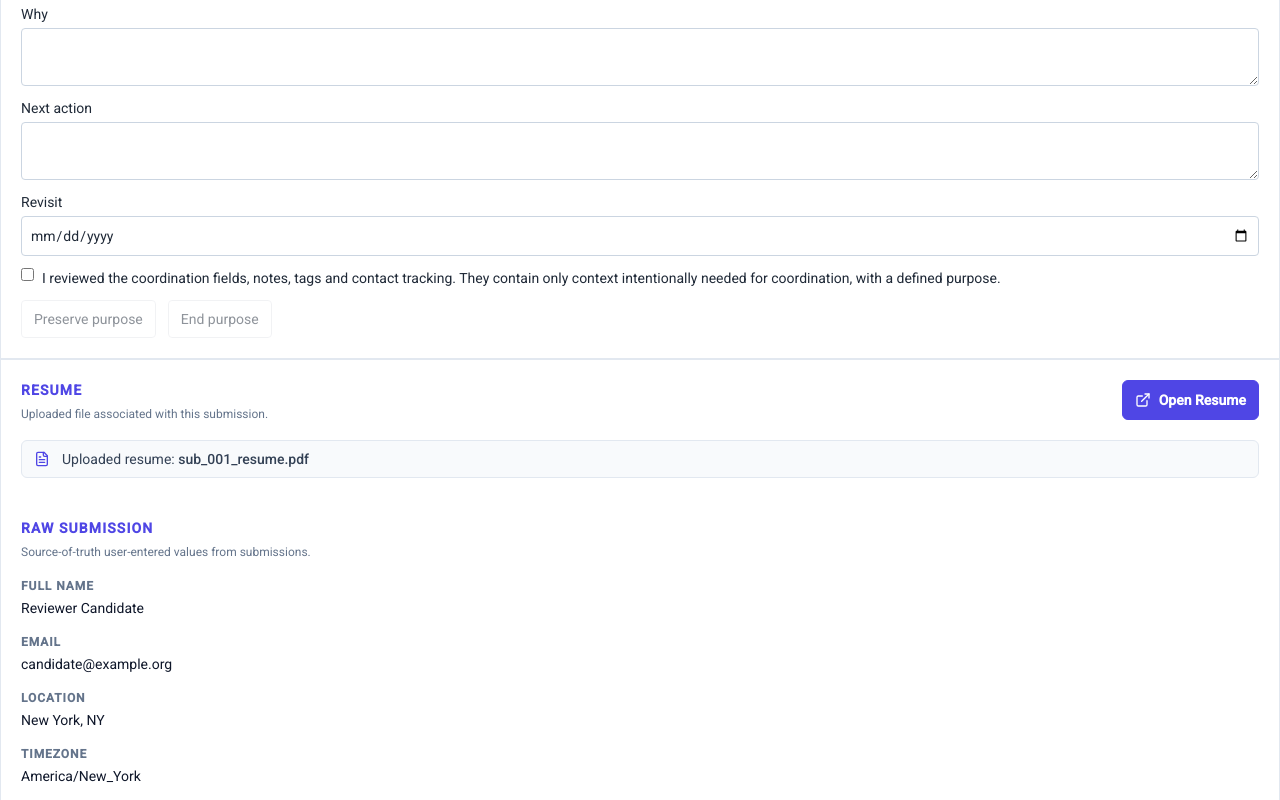
Scenario: InboxDetailPanel resume access › ignores an in-flight resume response after switching submissions
(page scrolled)
Click the button "Open Resume".
click(1190, 400)  # box [1122,380,1259,420]
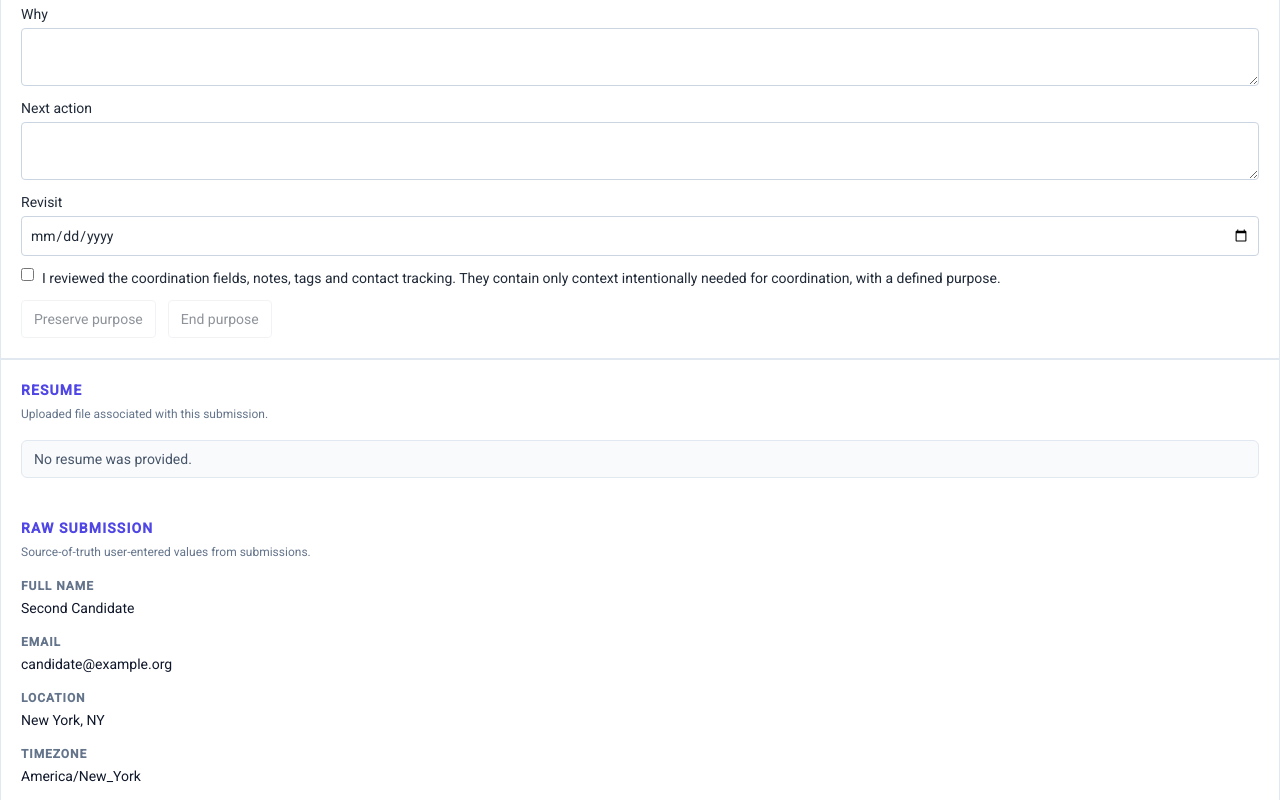
Result: the text "Second Candidate" is shown at [21,600,134,616]
Result: the text "No resume was provided." is shown at [21,440,1259,478]
